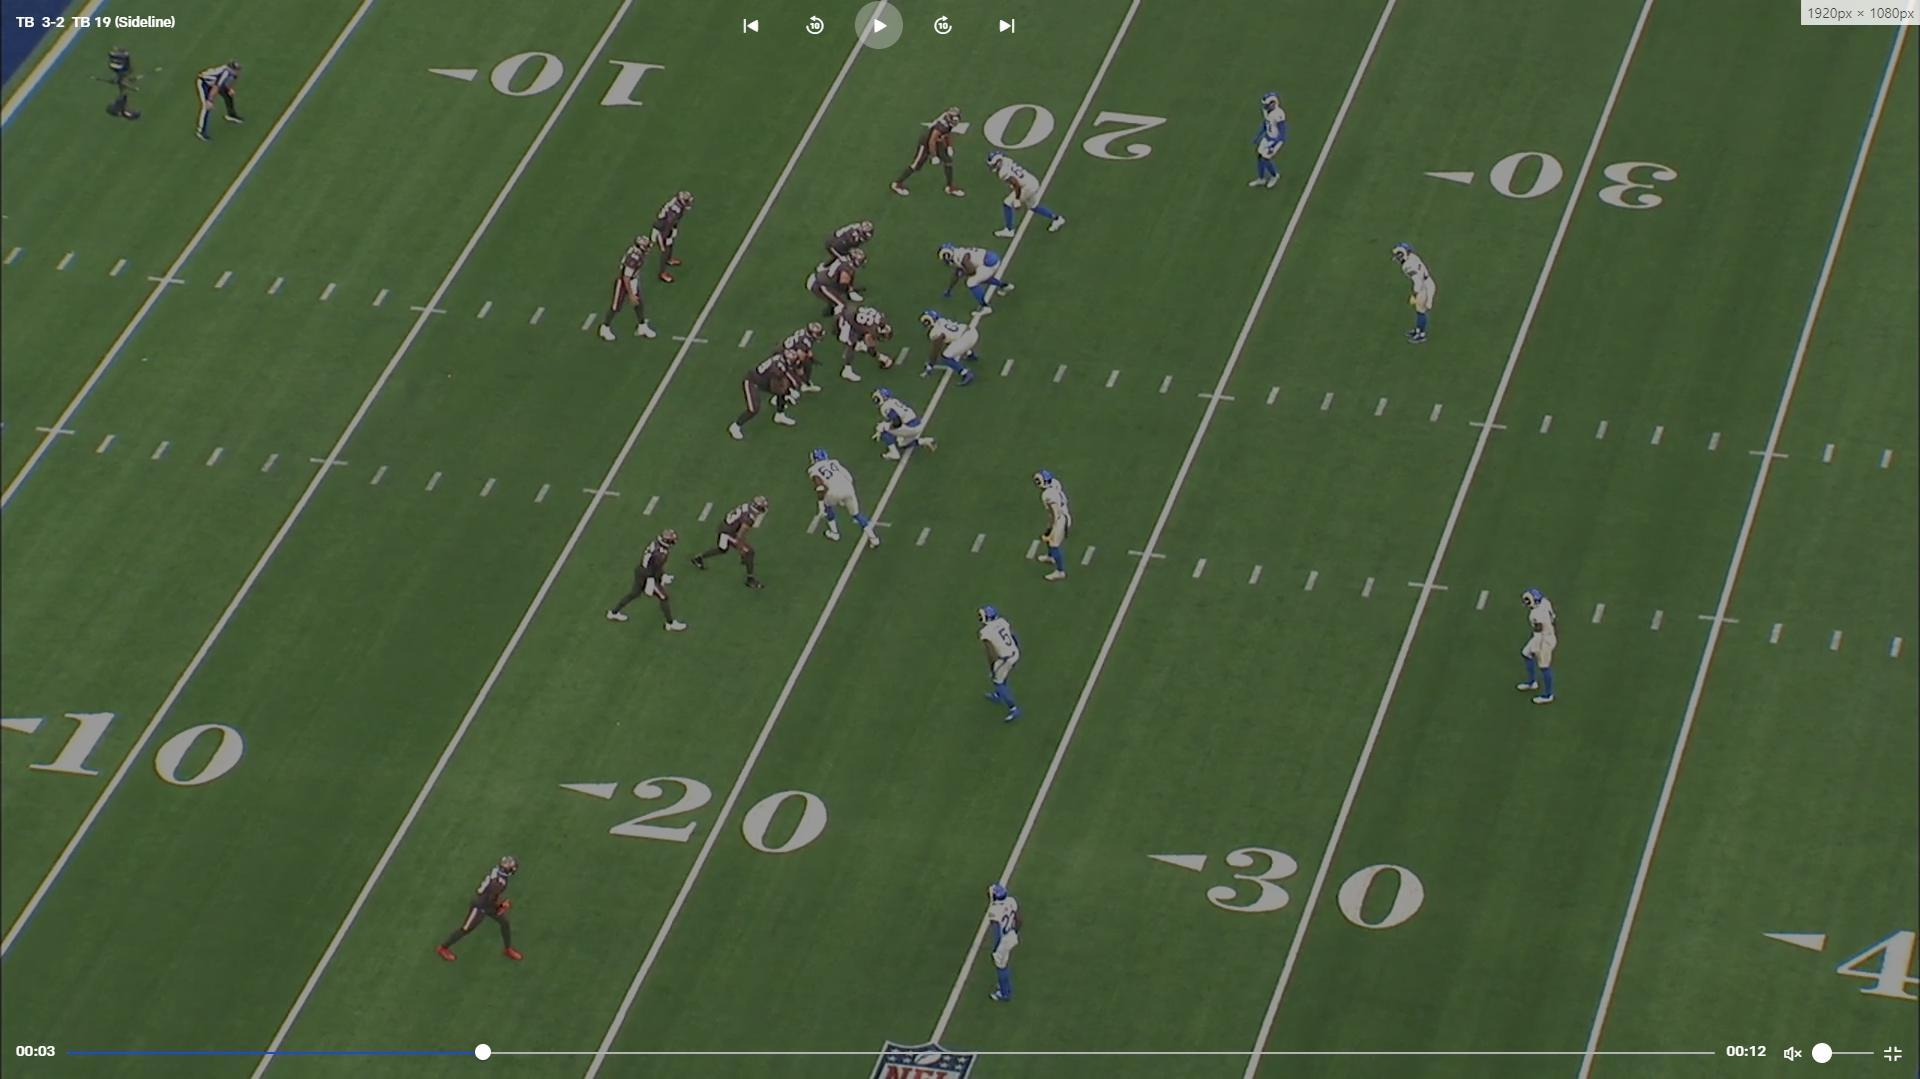player: (432, 848, 529, 972), (606, 525, 691, 642), (807, 444, 890, 551), (692, 492, 776, 596), (893, 105, 976, 206), (590, 230, 662, 345), (726, 350, 808, 448), (993, 149, 1072, 241), (976, 878, 1030, 1012), (980, 597, 1035, 726), (934, 239, 1017, 317), (1514, 581, 1563, 713), (871, 384, 945, 468), (911, 309, 980, 393), (1031, 466, 1077, 590), (1390, 238, 1439, 353), (810, 253, 873, 335), (837, 303, 900, 384), (650, 187, 697, 292), (1248, 85, 1292, 193), (779, 319, 832, 406), (823, 216, 881, 263)
ref: (195, 57, 248, 149)
